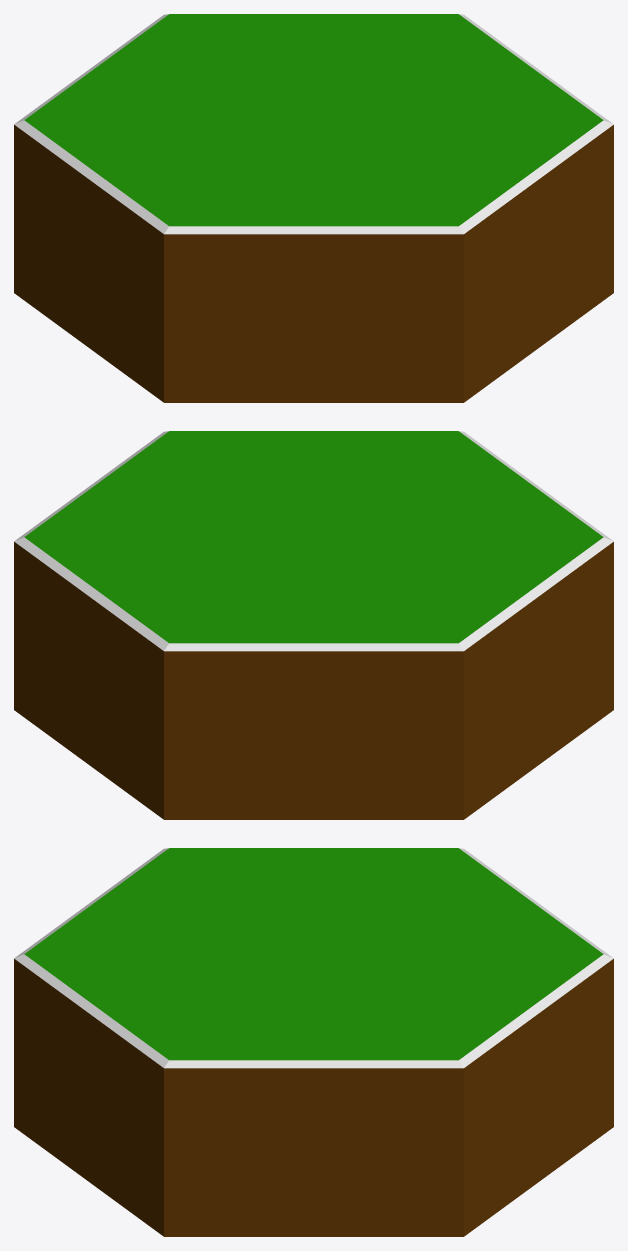
File: altigen_blok_new.fbx
The picture shows the model from 3 angles, top to bottom: view 1: azimuth 30°, elevation 25°; view 2: azimuth 150°, elevation 25°; view 3: azimuth 270°, elevation 25°; orthographic projection.
Visible parts, largest first — view 1: ground; view 2: ground; view 3: ground.
Part boxes in pixels (x1,y1,x2,y2): ground: (14,14,613,402); ground: (14,431,613,819); ground: (14,848,613,1236).
Bounding box in the file's own units: 1.73 × 0.6359 × 2.
